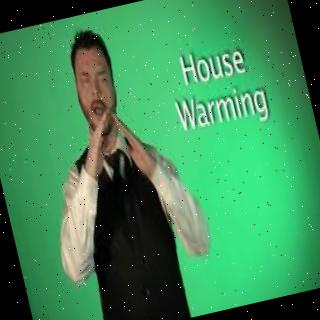House: (80, 90, 164, 190)
